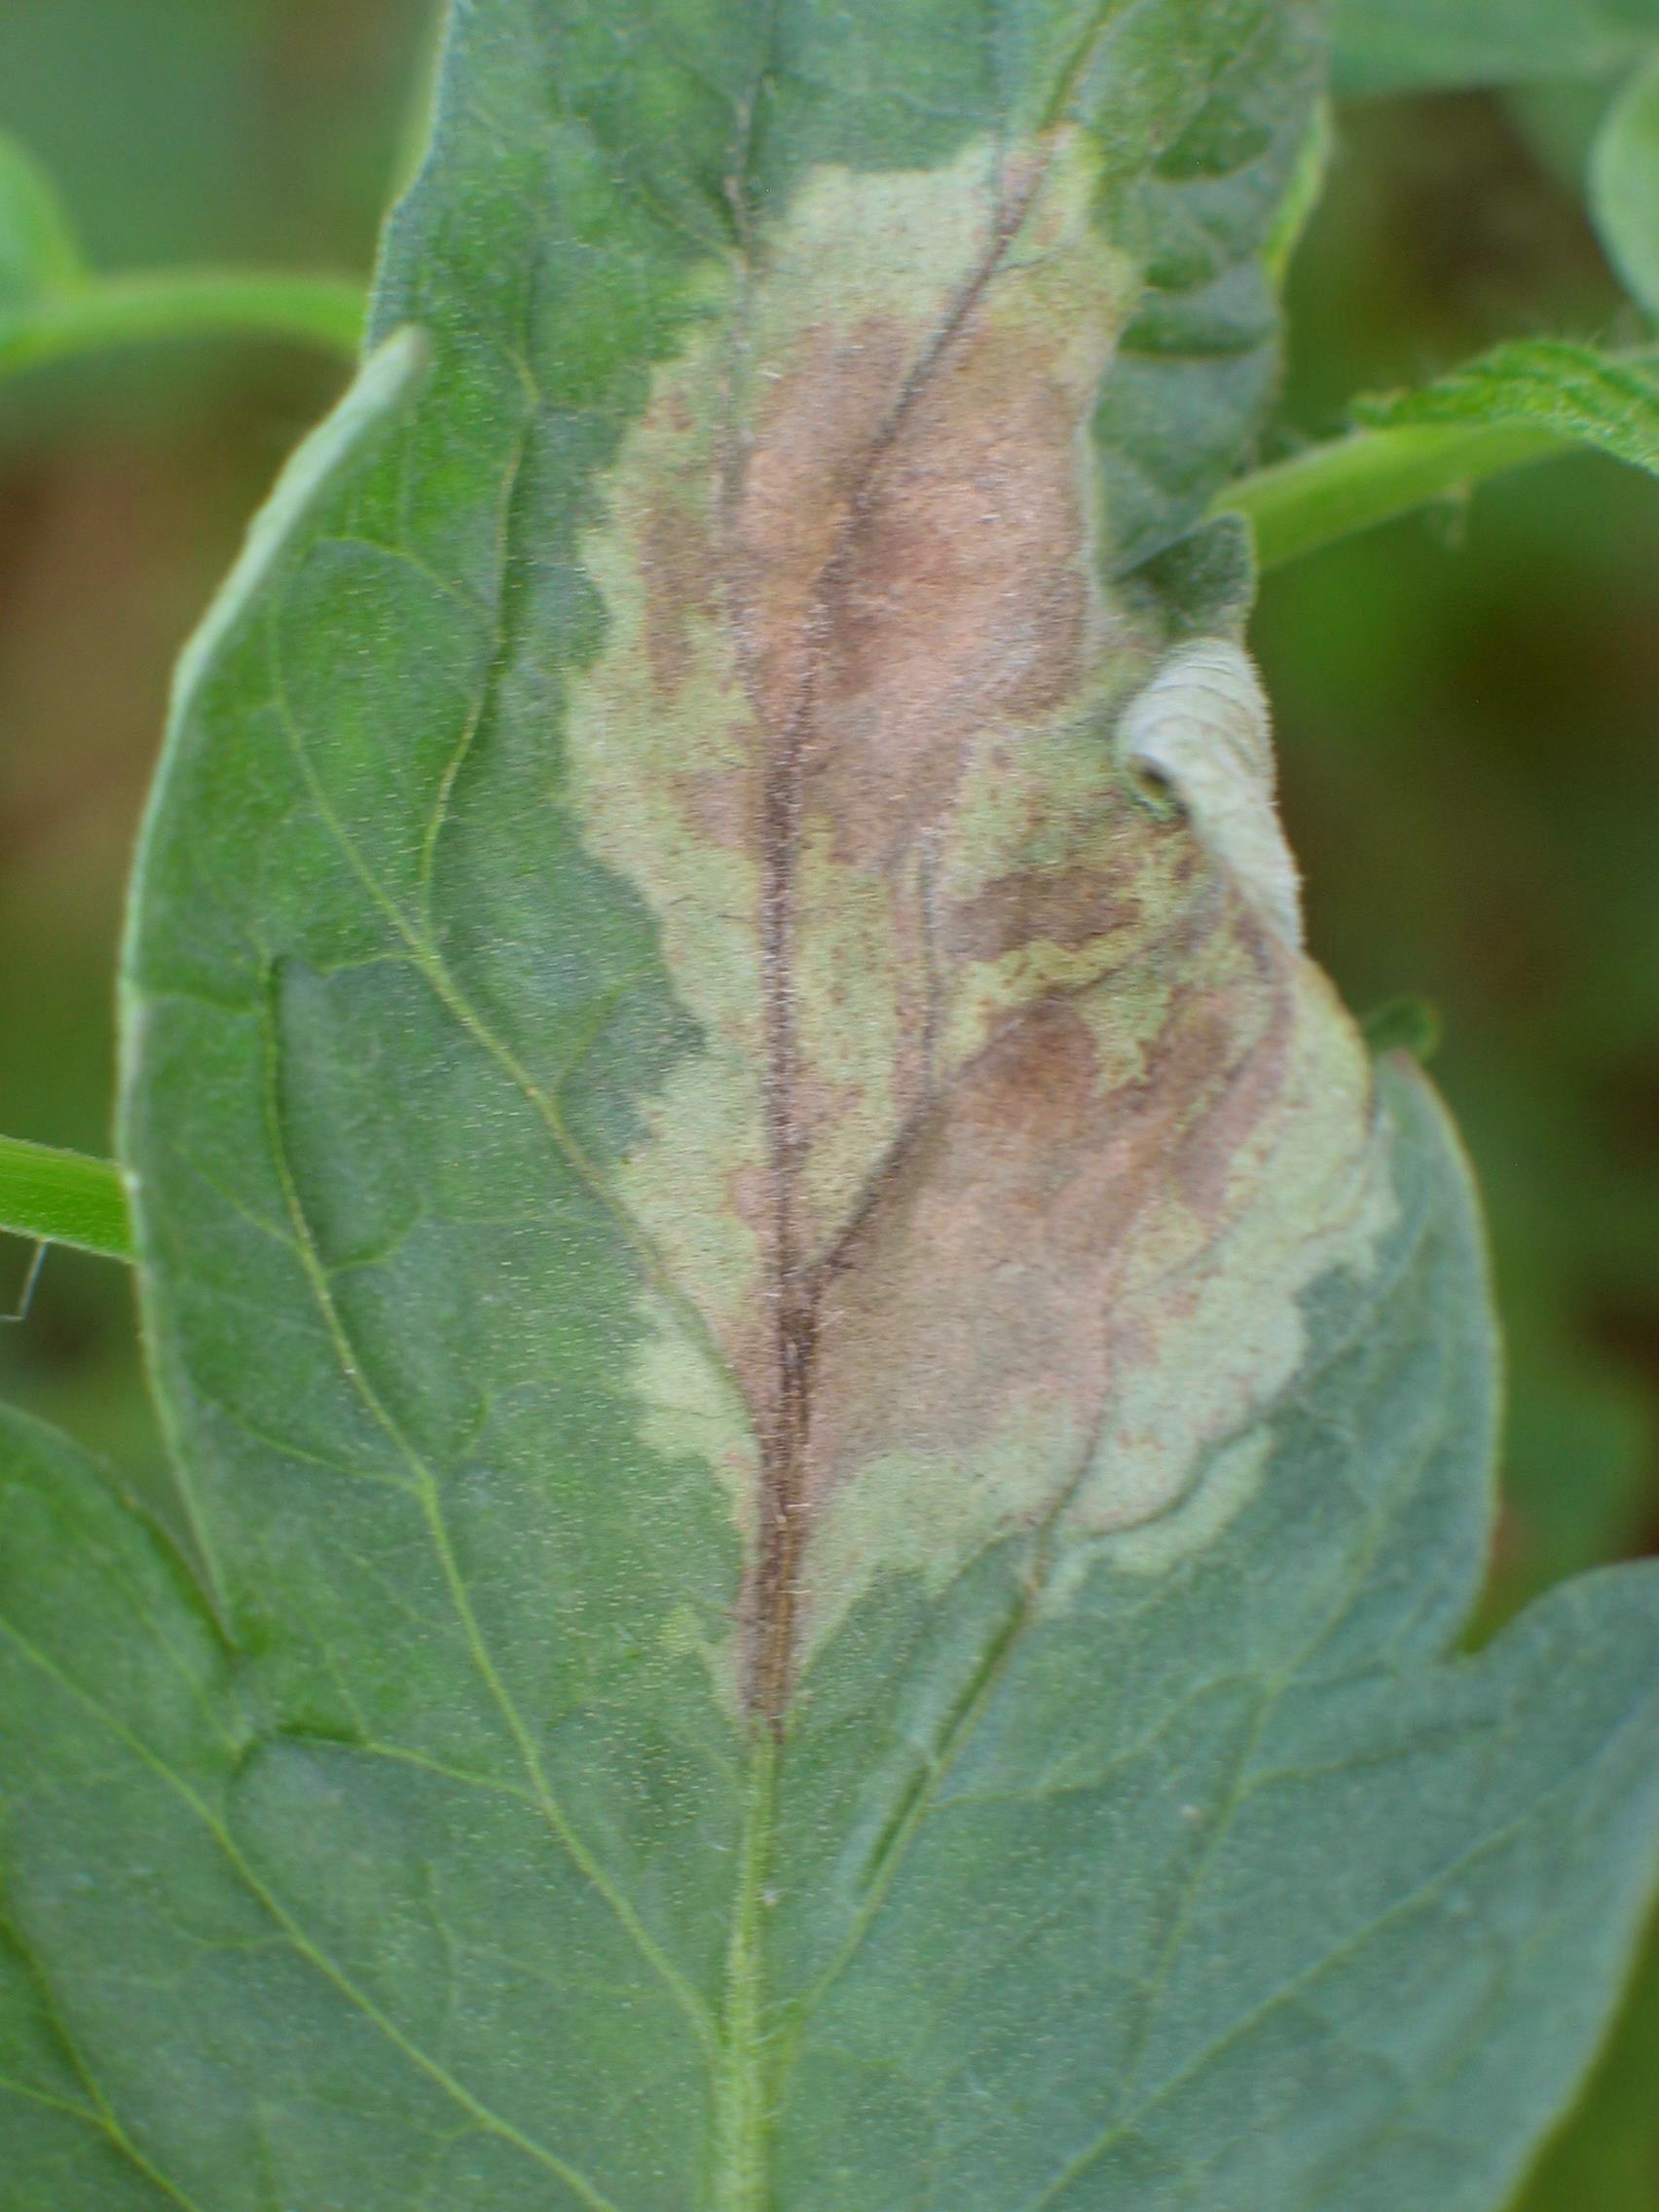Tomato leaf late blight: (1, 13, 1624, 2200)
